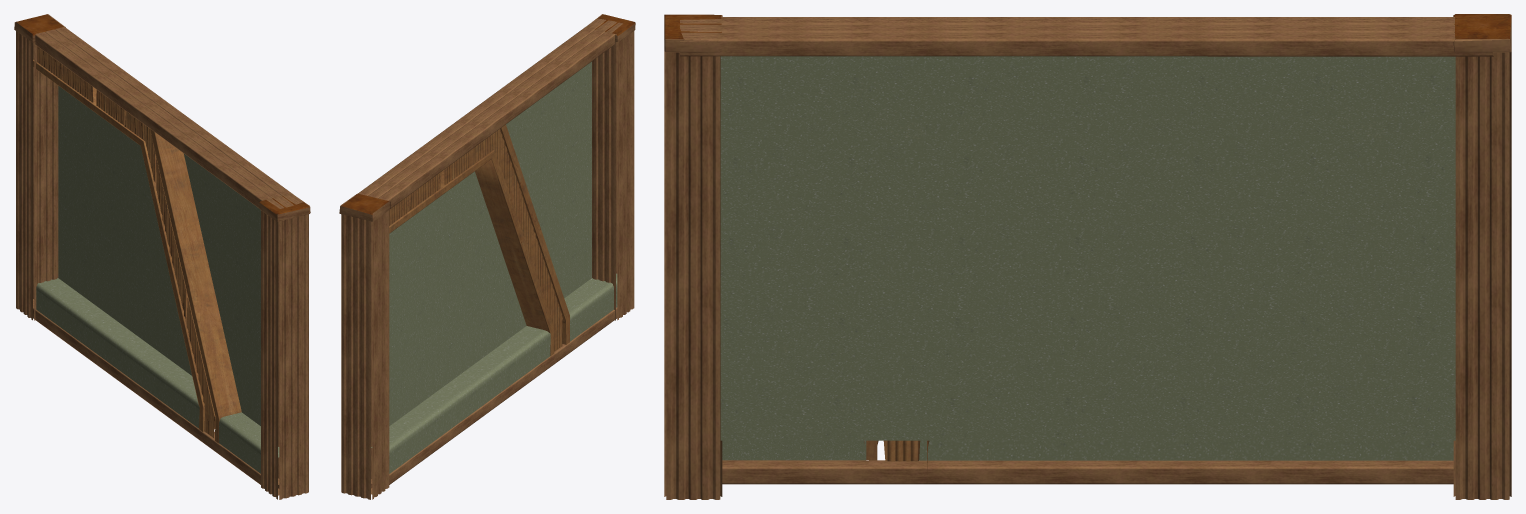
The model's file is SM_Office_wall01e.fbx.
3 renders of one model, left to right at view 1: azimuth 30°, elevation 25°; view 2: azimuth 150°, elevation 25°; view 3: azimuth 270°, elevation 25°, orthographic. The views are drawn at different scales.
Visible parts, largest first — view 1: SM_Office_wall01e_LOD0; view 2: SM_Office_wall01e_LOD0; view 3: SM_Office_wall01e_LOD0.
Part boxes in pixels (x1,y1,x2,y2): SM_Office_wall01e_LOD0: (14,14,310,499); SM_Office_wall01e_LOD0: (339,14,635,499); SM_Office_wall01e_LOD0: (664,14,1511,499).
Size of the model in its own units: 56.3 by 750 by 451.
